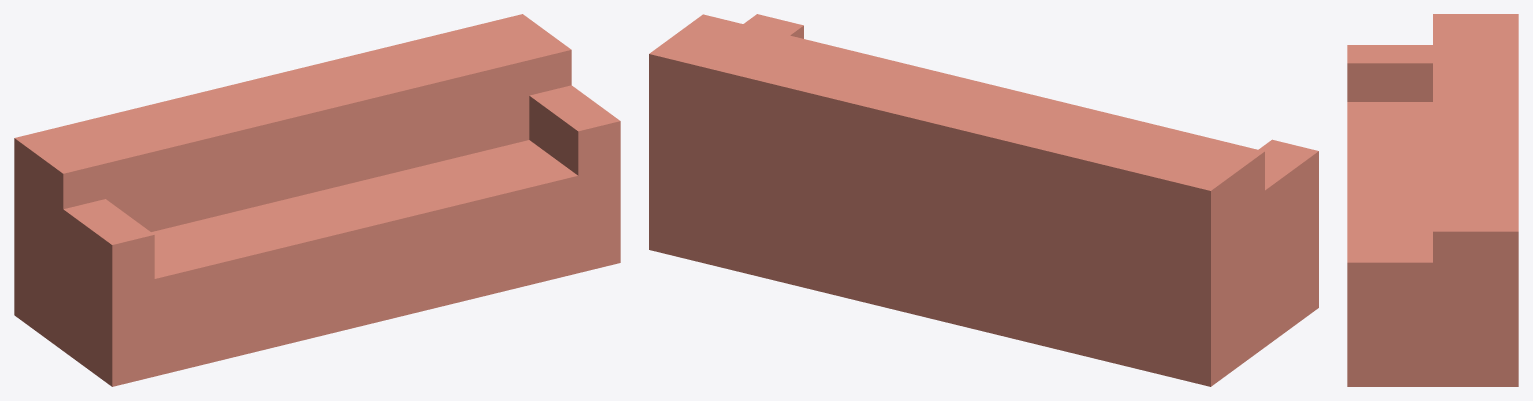
Rendered from Couch.fbx.
3 views of the same model, side by side, from view 1: azimuth 30°, elevation 25°; view 2: azimuth 150°, elevation 25°; view 3: azimuth 270°, elevation 25° (orthographic). The views are drawn at different scales.
Visible parts, largest first — view 1: Cube; view 2: Cube; view 3: Cube.
Boxes of the visible parts, x1=… form: Cube: x1=14, y1=14, x2=620, y2=386; Cube: x1=649, y1=14, x2=1318, y2=386; Cube: x1=1347, y1=14, x2=1518, y2=386.
Bounding box in the file's own units: 600 × 200 × 200.
Materials: 1 (1 with a texture image).
